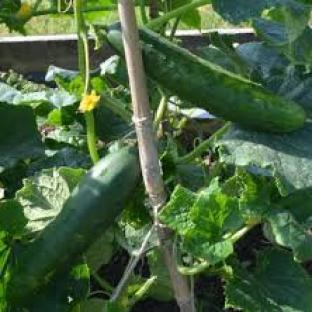Cucumber: (6, 148, 140, 307), (140, 29, 306, 131)
